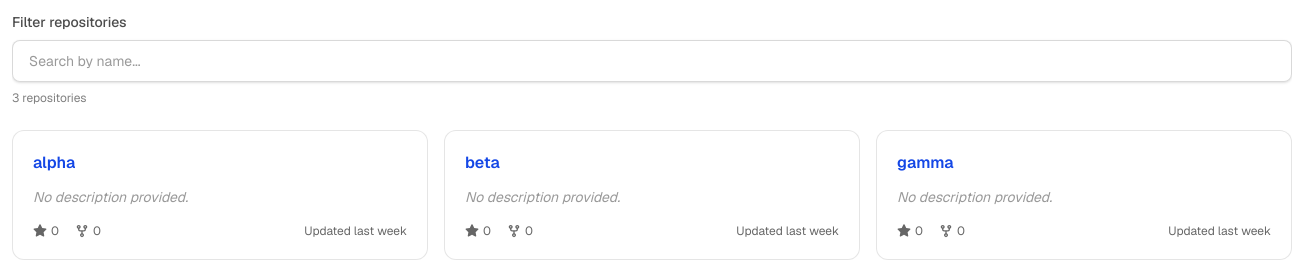
Test: RepoList › filters cards by name in real time without a second fetch
The image size is (1304, 277).
Check: the heading "alpha" is shown, box 33,151 -> 75,175
Type "et" into the search field labelled "Filter repositories" at x=652, y=61, box 12,40 -> 1292,82
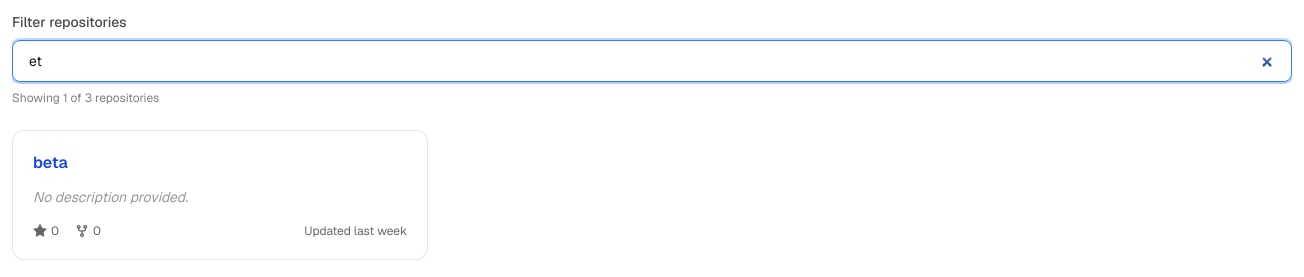
Check: the link "alpha" is gone
Check: the link "gamma" is gone
Check: the text "Showing 1 of 3 repositories" is shown, box 12,90 -> 159,106
